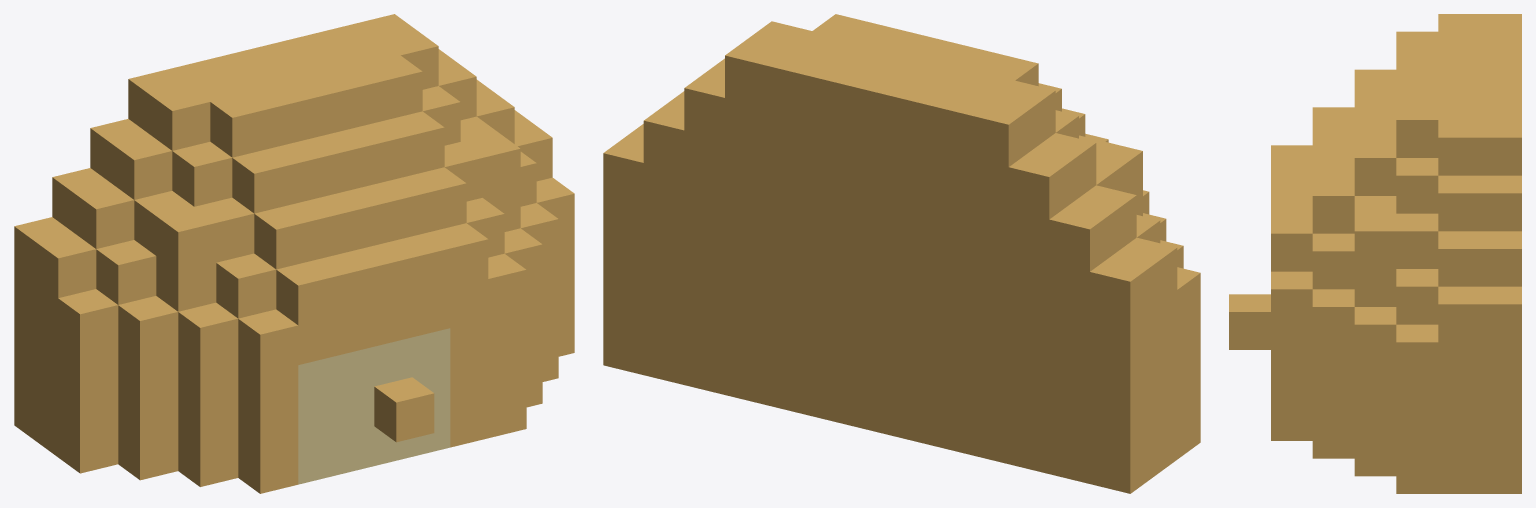
The model's file is cap_front.glb.
3 renders of one model, left to right at view 1: azimuth 30°, elevation 25°; view 2: azimuth 150°, elevation 25°; view 3: azimuth 270°, elevation 25°, orthographic. The views are drawn at different scales.
Bounding box in the file's own units: 13 × 8 × 7.
